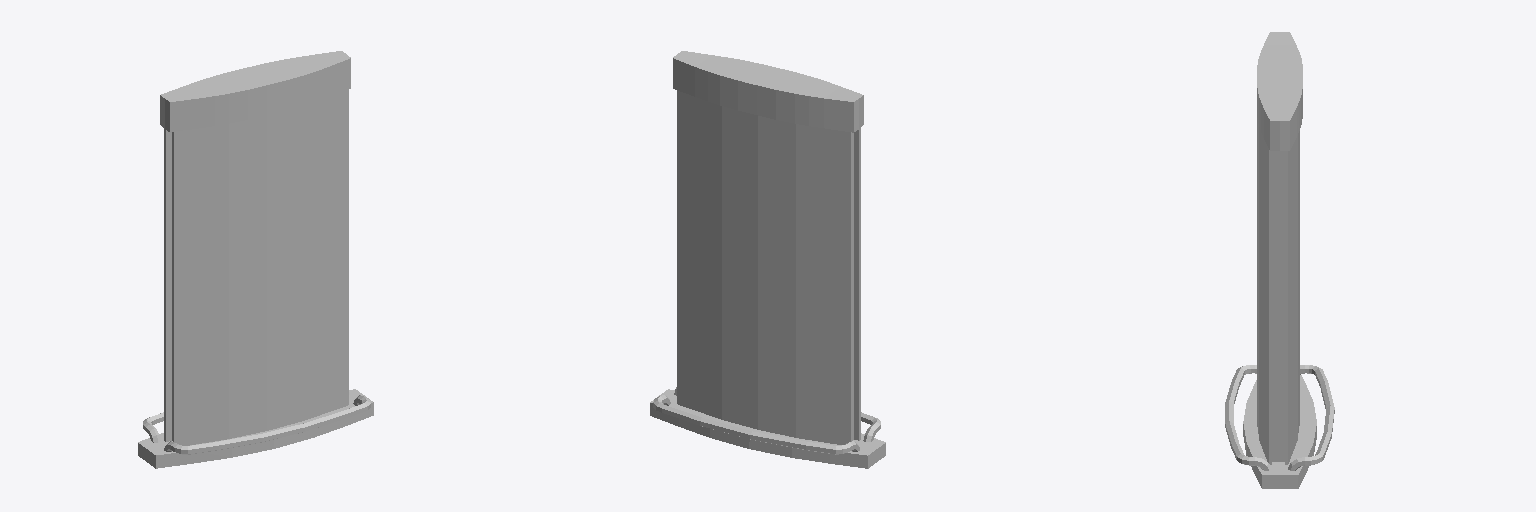
Rendered from billboard.obj.
3 views of the same model, side by side, from view 1: azimuth 30°, elevation 25°; view 2: azimuth 150°, elevation 25°; view 3: azimuth 270°, elevation 25° (orthographic).
Size of the model in its own units: 3.07 by 4.82 by 1.33.